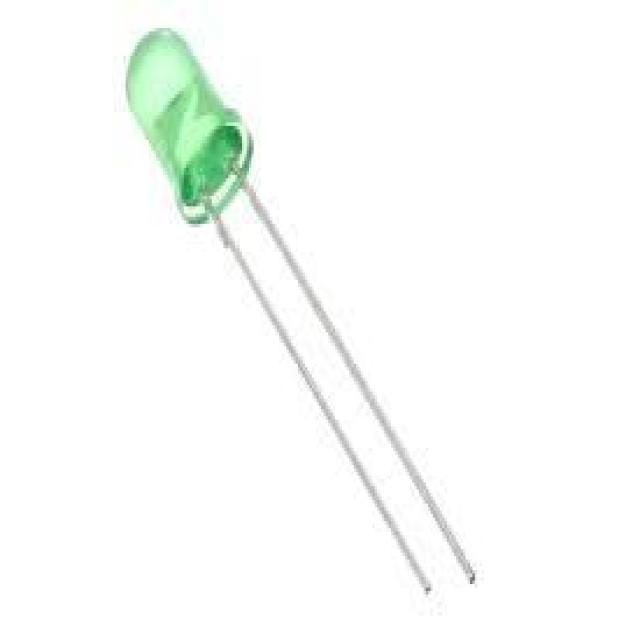Led: (129, 34, 474, 591)
